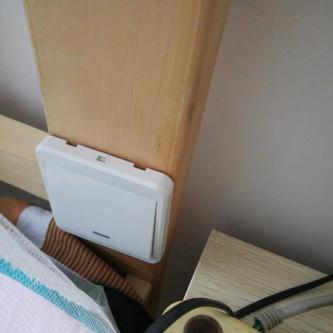switch: (42, 156, 163, 265)
